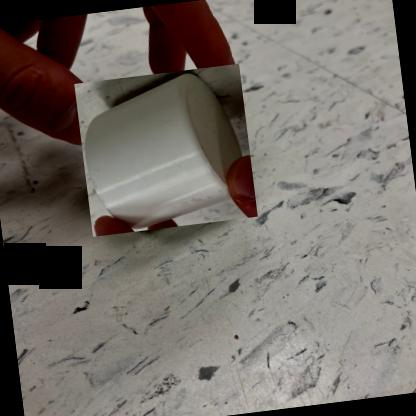white cylinder: (74, 63, 257, 236)
